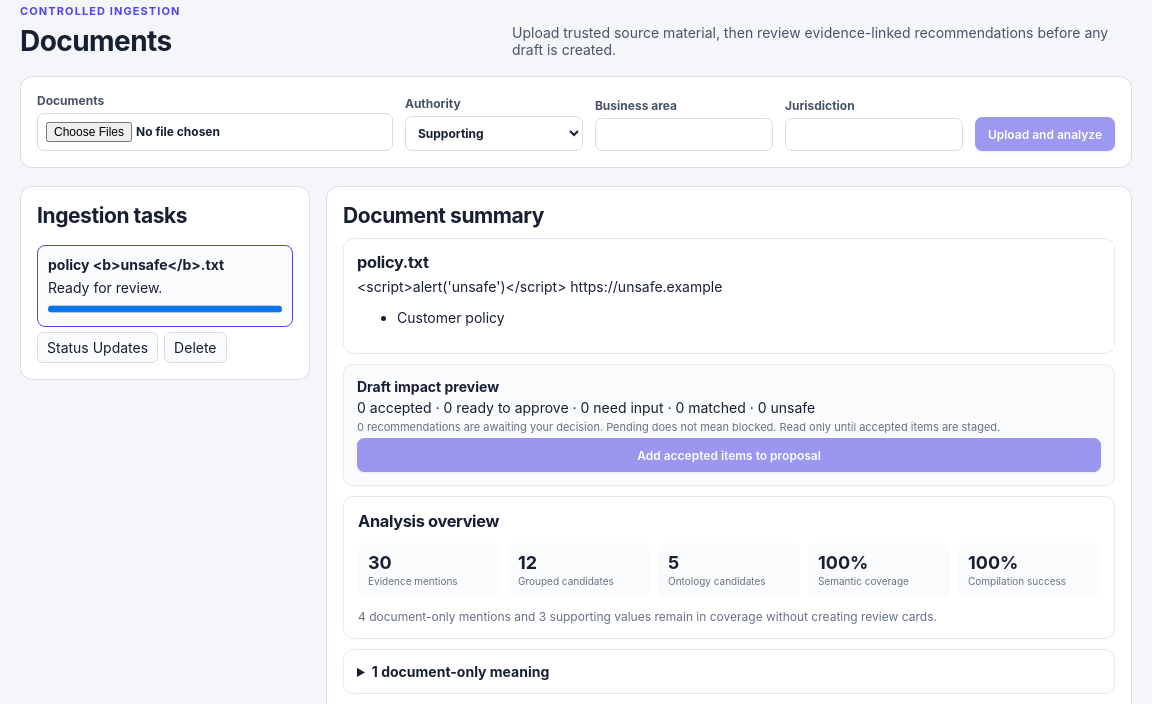
it: document ingestion review workspace › keeps unsupported meaning in the document-only coverage ledger without a review card
Click the heading "1 document-only meaning": (460,672) [372,663,549,680]
(page scrolled)
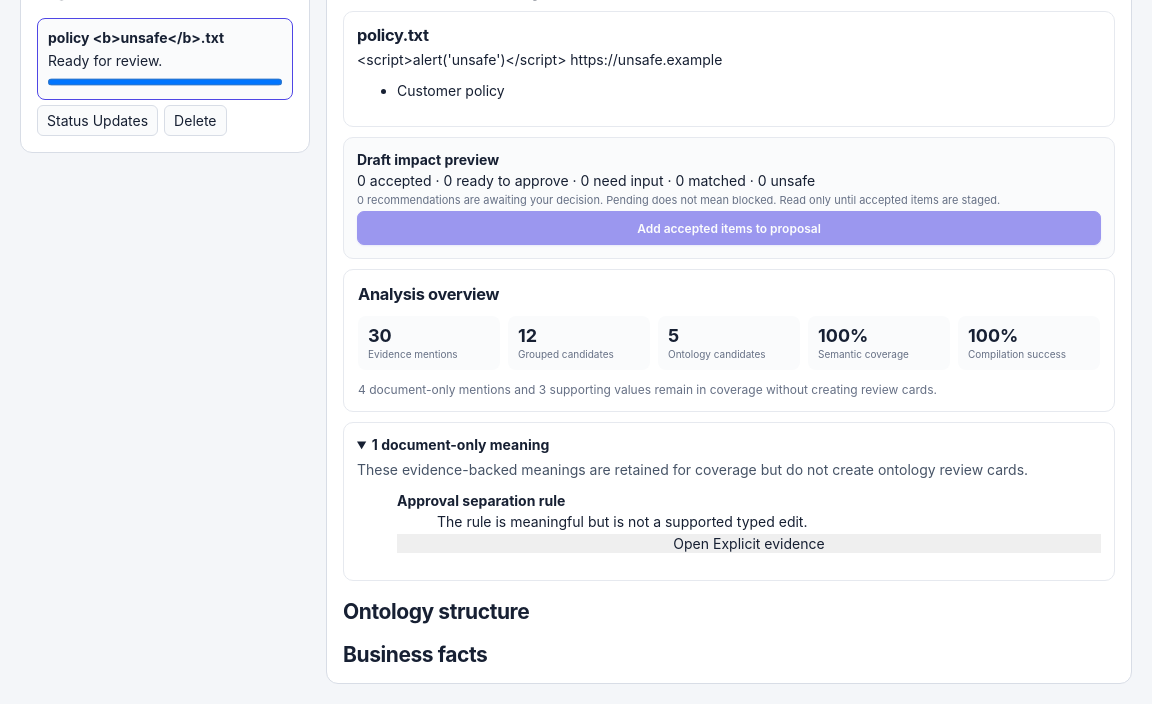
Check: the list item "The rule is meaningful but is not a supported typed edit." is shown, box [437,513,808,530]
